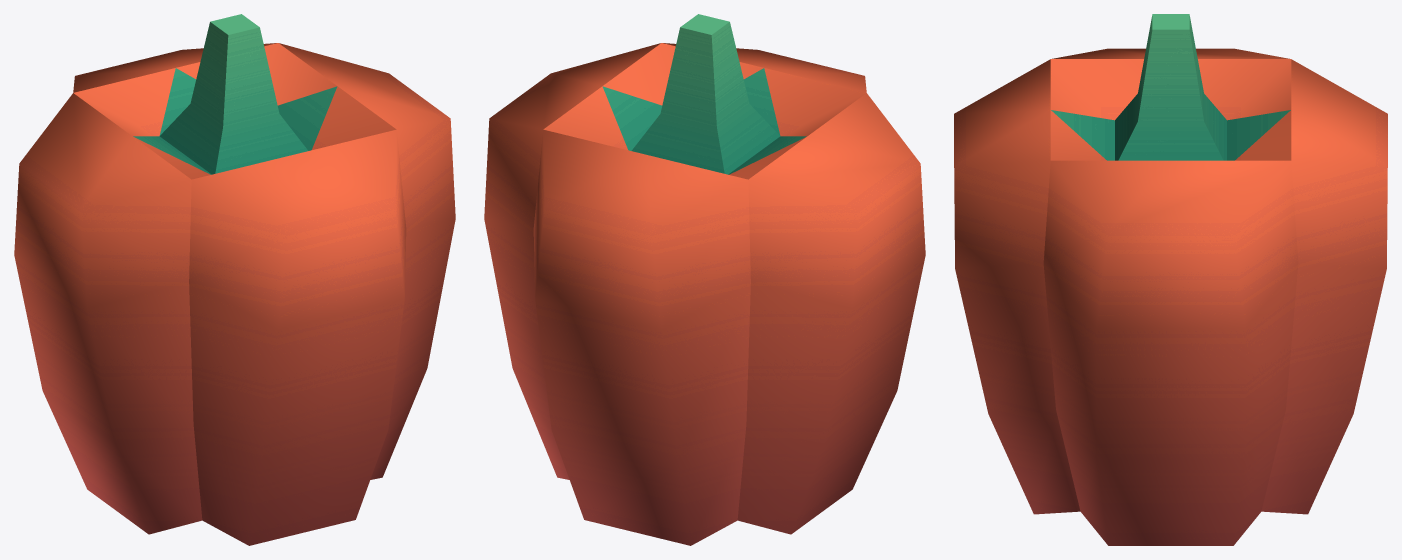
The model's file is paprika.glb.
3 renders of one model, left to right at view 1: azimuth 30°, elevation 25°; view 2: azimuth 150°, elevation 25°; view 3: azimuth 270°, elevation 25°, orthographic.
Visible parts, largest first — view 1: paprika; view 2: paprika; view 3: paprika.
Part boxes in pixels (x1,y1,x2,y2): paprika: (14,14,455,545); paprika: (484,14,925,545); paprika: (954,14,1387,545).
Bounding box in the file's own units: 0.1681 × 0.1993 × 0.1681.
1 material, 1 textured.
